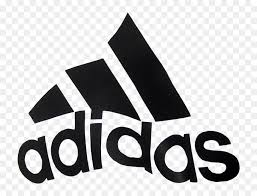adidas: (14, 13, 239, 190)
